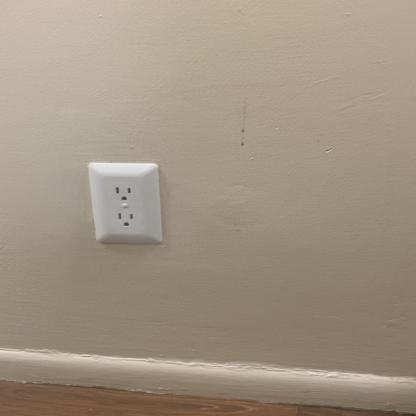OUTLET: (88, 161, 165, 245)
